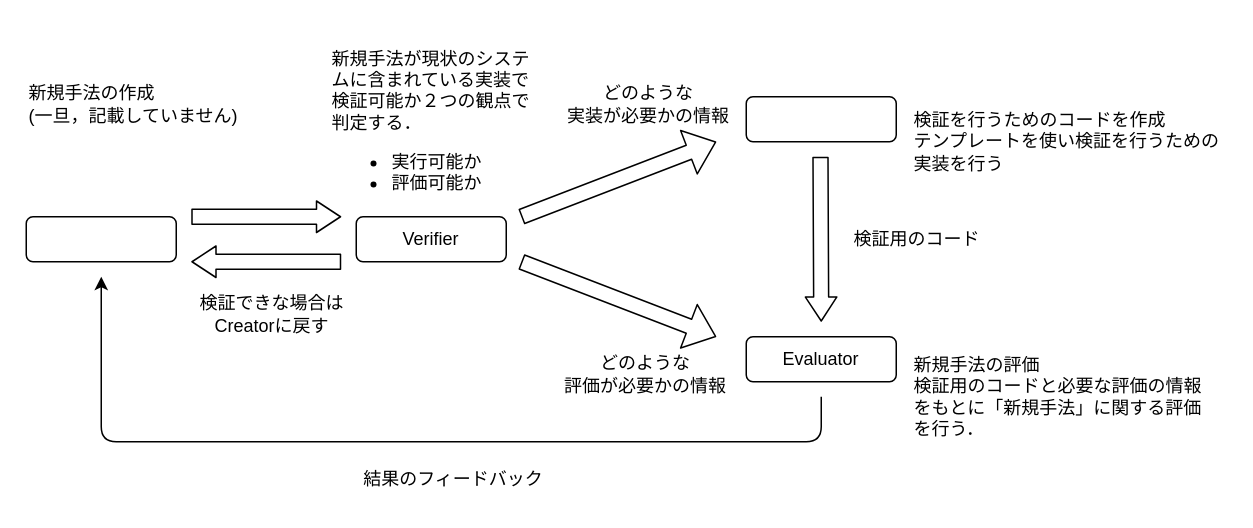
This 1253x528 diagram has some shape labels left out. The shapes that lost their labels are listed below. From the top down, each one's box as (x1, y1, x2, y2) in pixels, then its label:
(745, 95, 896, 142): Coder
(25, 215, 176, 262): Creator
